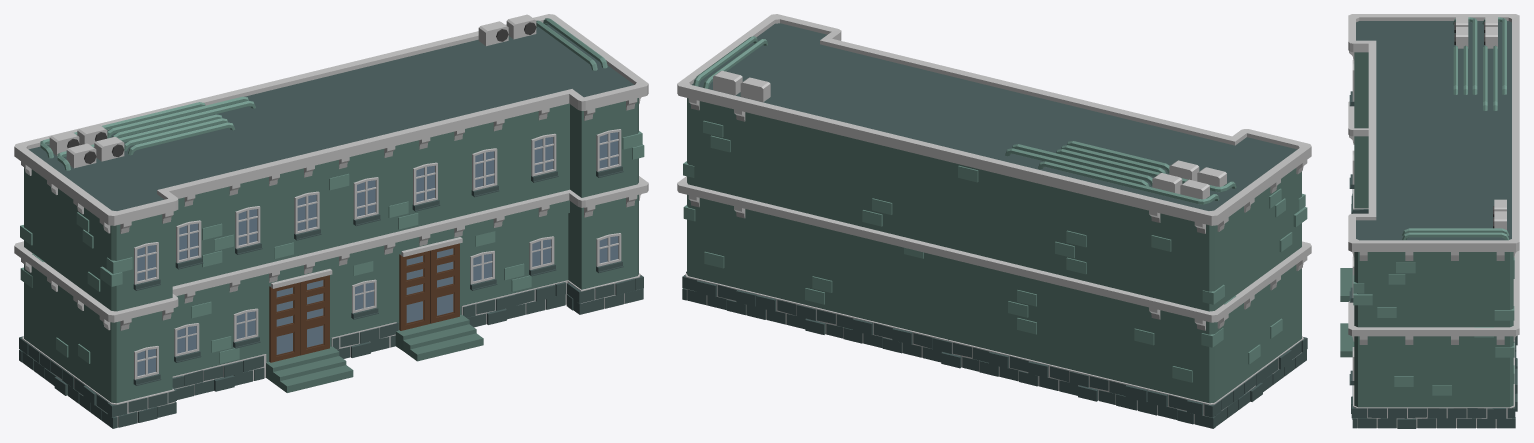
The model's file is quat_2story_wide_2doors.glb.
The picture shows the model from 3 angles, left to right: view 1: azimuth 30°, elevation 25°; view 2: azimuth 150°, elevation 25°; view 3: azimuth 270°, elevation 25°; orthographic projection. The views are drawn at different scales.
Visible parts, largest first — view 1: 2Story_Wide_2Doors_Cube.037; view 2: 2Story_Wide_2Doors_Cube.037; view 3: 2Story_Wide_2Doors_Cube.037.
Boxes of the visible parts, box(x1,y1,x2,y2) form: 2Story_Wide_2Doors_Cube.037: box(14, 14, 648, 428); 2Story_Wide_2Doors_Cube.037: box(677, 14, 1311, 428); 2Story_Wide_2Doors_Cube.037: box(1340, 14, 1519, 428).
Bounding box in the file's own units: 6.83 × 2.75 × 2.26.
Materials: 1 (1 with a texture image).
